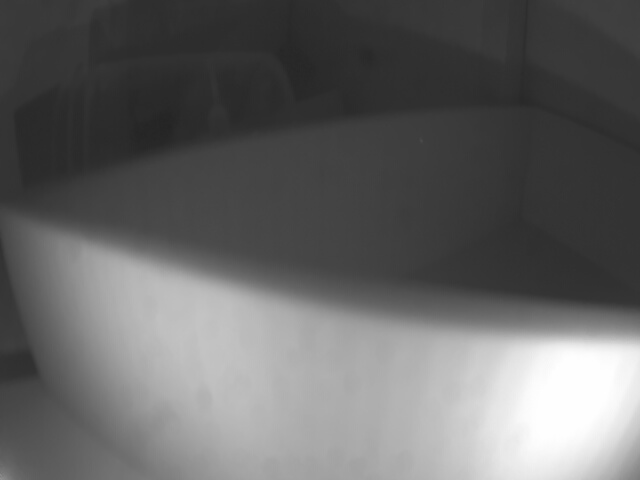Point: (2, 210, 640, 478)
